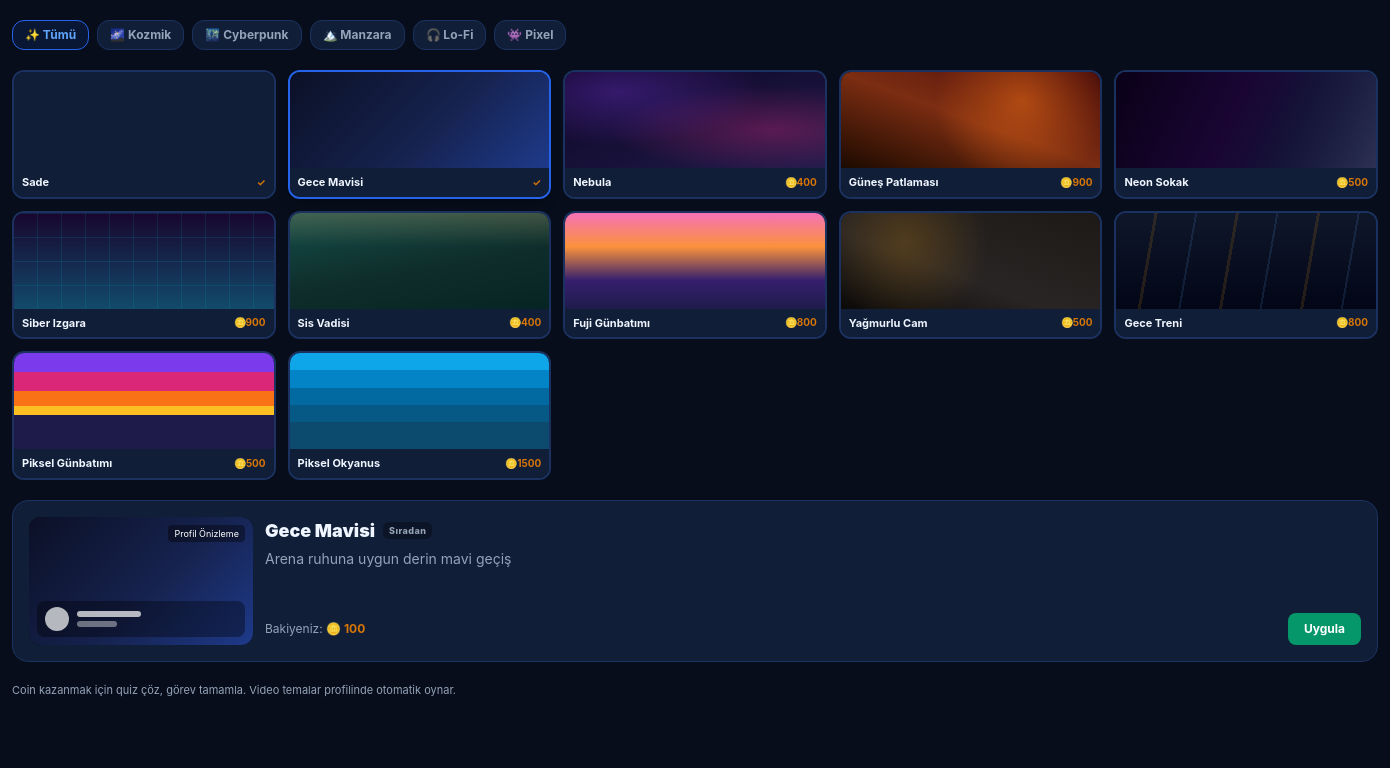
Test: StoreClient › yetersiz bakiye: buton "Yetersiz Coin" ve disabled
The image size is (1390, 768).
Click the button with aria-label "Piksel Okyanus önizleme": click(419, 415) [288,351,551,480]
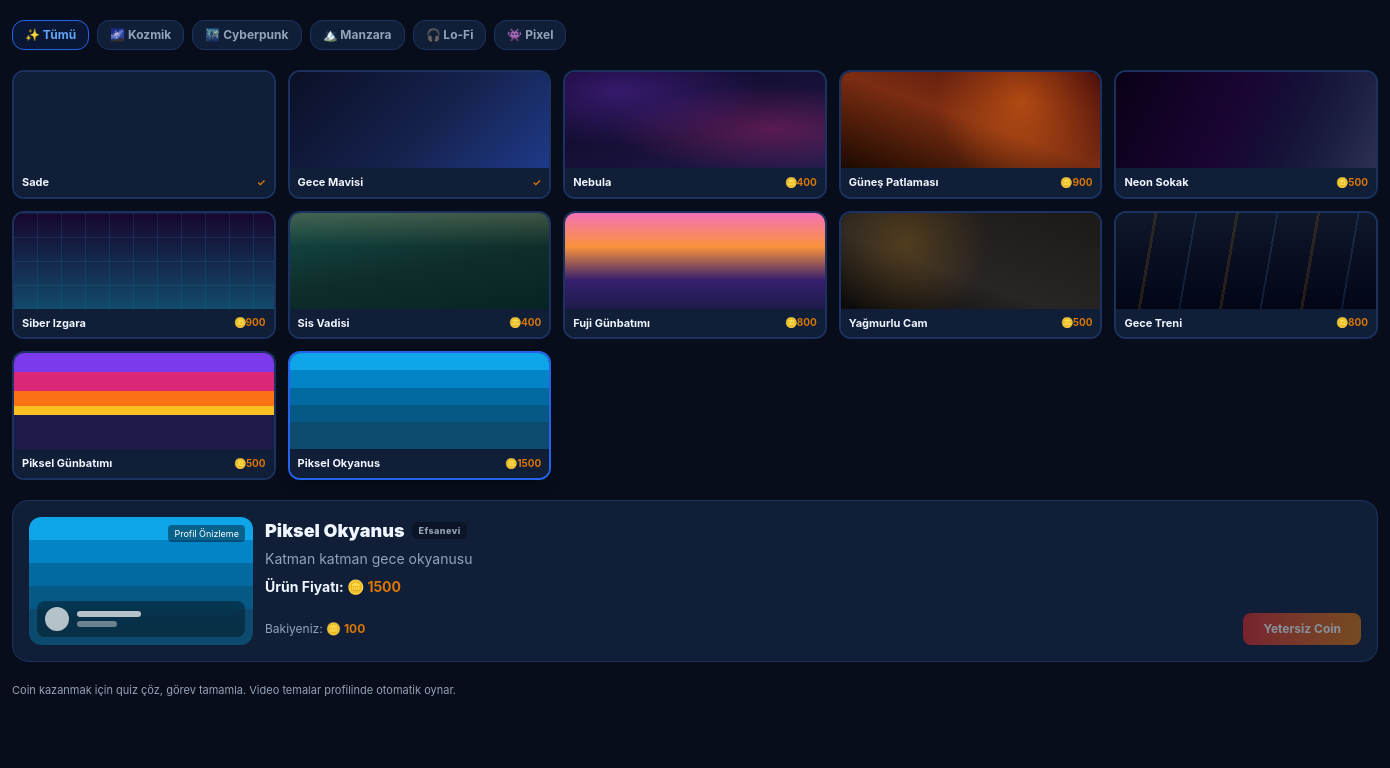
Expected: the button "Yetersiz Coin" is disabled, [1243,612,1361,644]
